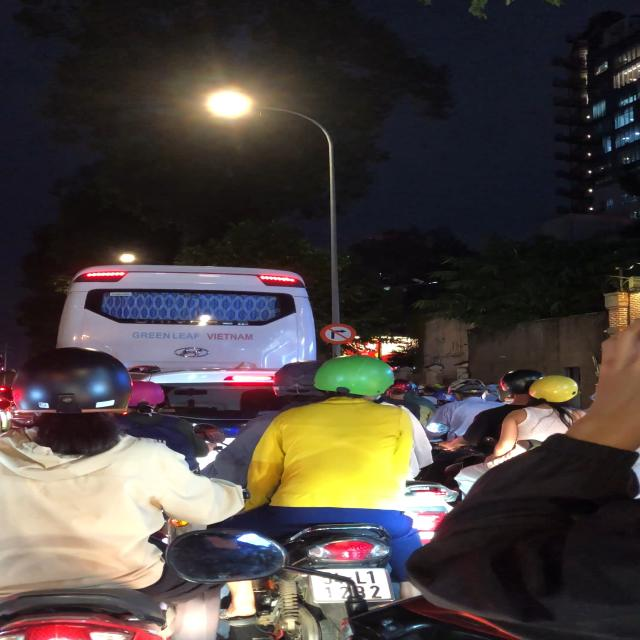Bien bao cam re phai: (318, 322, 367, 346)
